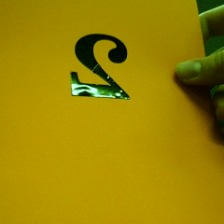orange2: (58, 32, 143, 109)
